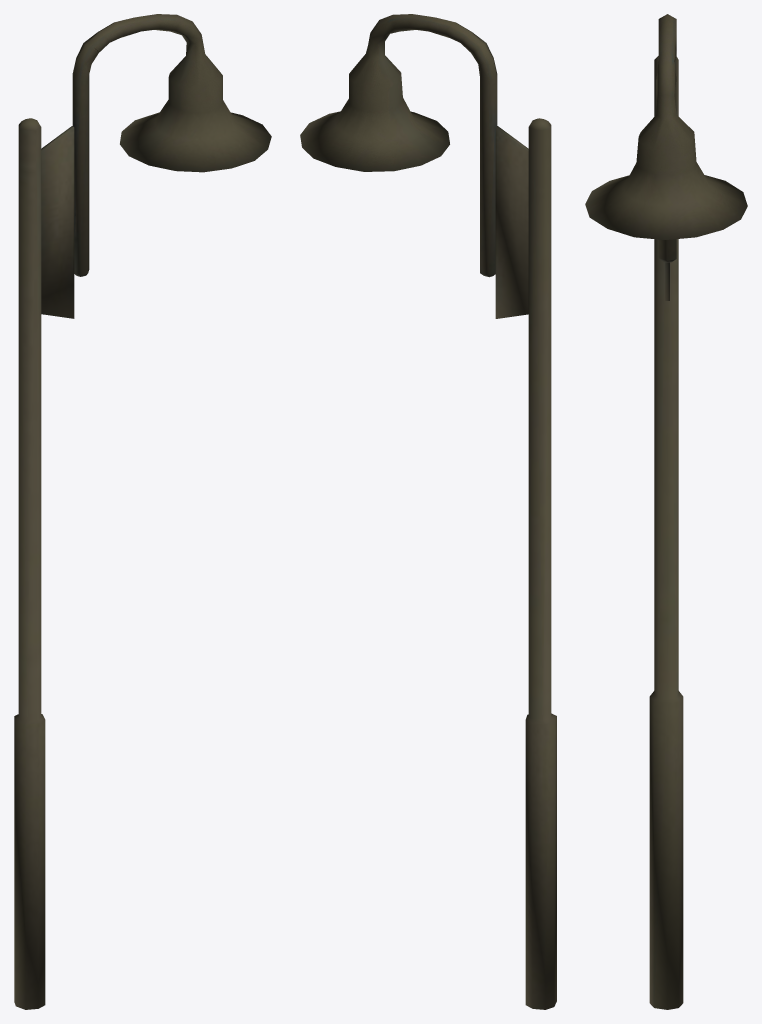
The model's file is street_light.fbx.
The picture shows the model from 3 angles, left to right: view 1: azimuth 30°, elevation 25°; view 2: azimuth 150°, elevation 25°; view 3: azimuth 270°, elevation 25°; orthographic projection. The views are drawn at different scales.
Parts seen in each view (by area): view 1: tripo_node_75f862d7; view 2: tripo_node_75f862d7; view 3: tripo_node_75f862d7.
Part boxes in pixels (<box>): tripo_node_75f862d7: <box>14,14,271,1009</box>; tripo_node_75f862d7: <box>300,14,556,1009</box>; tripo_node_75f862d7: <box>585,14,747,1009</box>.
Size of the model in its own units: 117 by 438 by 62.53.
